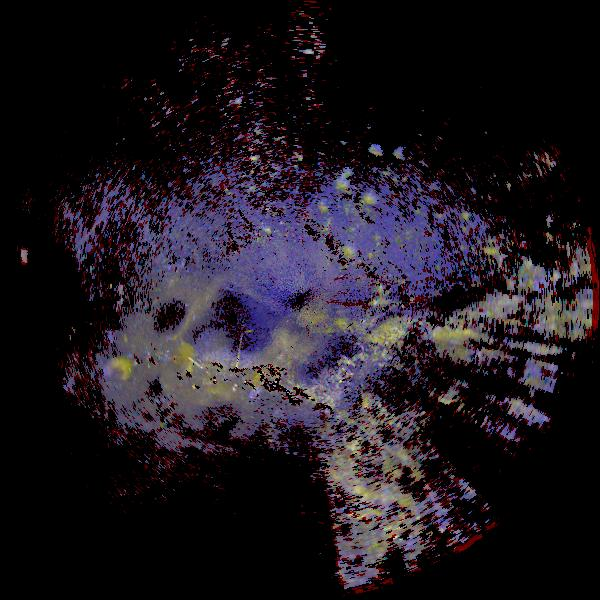roost: (155, 340, 200, 385), (104, 358, 131, 385)
